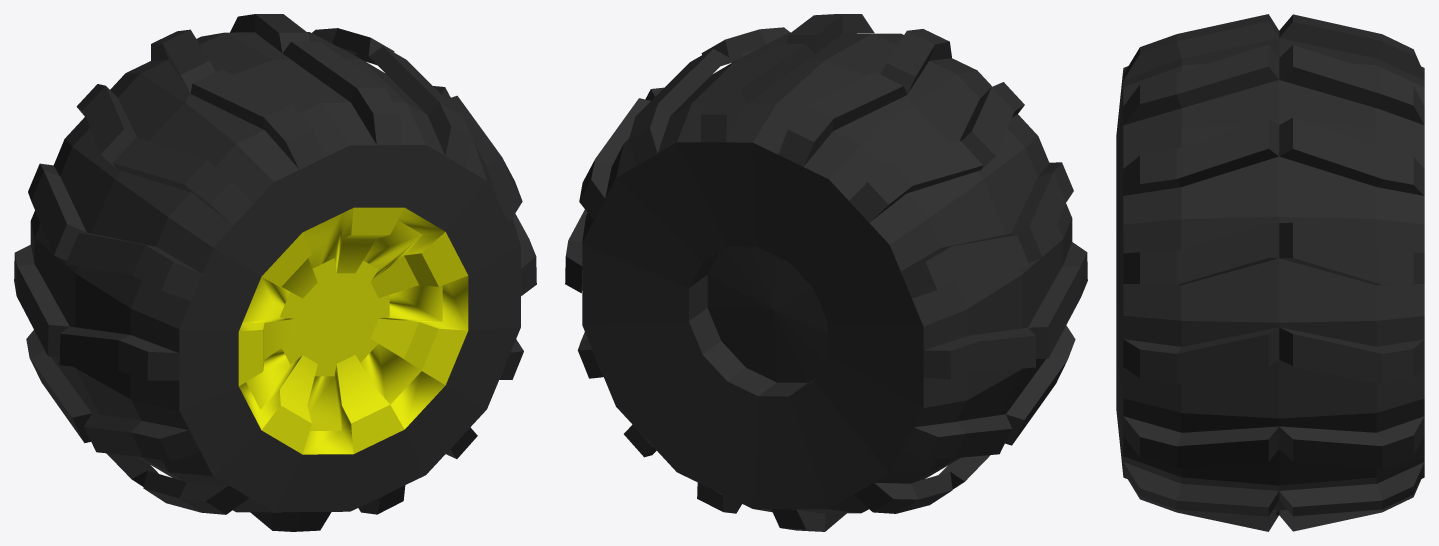
File: wheel6.fbx
3 renders of one model, left to right at view 1: azimuth 30°, elevation 25°; view 2: azimuth 150°, elevation 25°; view 3: azimuth 270°, elevation 25°, orthographic.
Visible parts, largest first — view 1: lanot_wheel4_L; view 2: lanot_wheel4_L; view 3: lanot_wheel4_L.
Boxes of the visible parts, left/top/right/bottom form: lanot_wheel4_L: left=14, top=14, right=536, bottom=531; lanot_wheel4_L: left=565, top=14, right=1087, bottom=531; lanot_wheel4_L: left=1116, top=14, right=1424, bottom=531.
Size of the model in its own units: 152 by 154 by 91.65.
